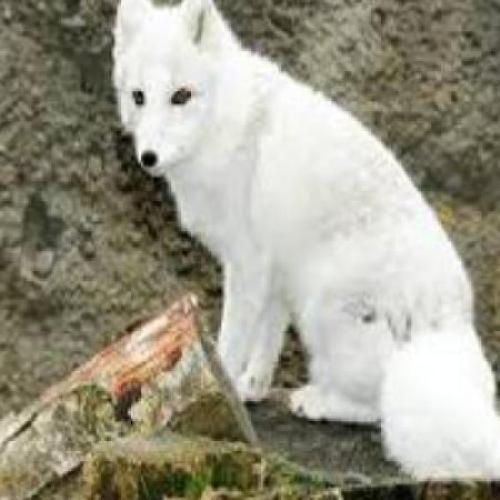arctic_fox-endangered: (116, 0, 496, 478)
